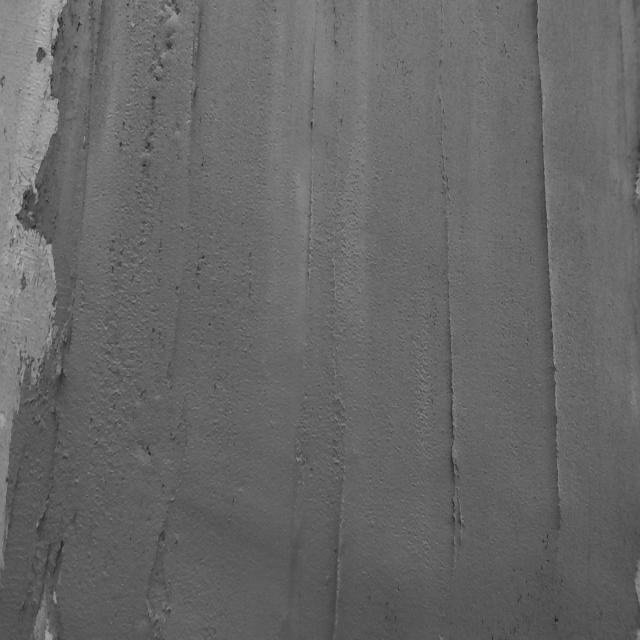trowels marks: (527, 0, 561, 553), (442, 118, 459, 560), (298, 28, 321, 315), (324, 454, 351, 640)
